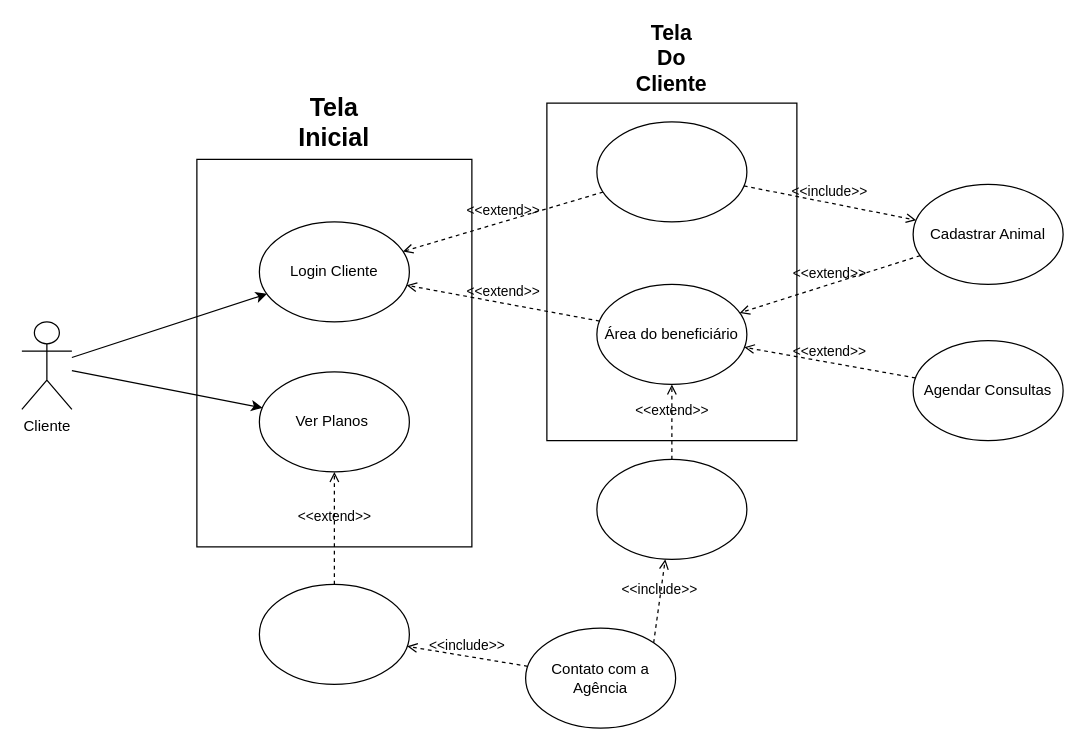
The diagram is 1085 pixels wide and 750 high, and some of its shapes have lost their labels. The shapes that lost their labels are listed below. From the top down, each one's centre as x and y in pixels, then its label:
pixel 671 171: Cadastrar Cliente
pixel 671 508: Alterar Plano
pixel 333 633: Assinar Plano
